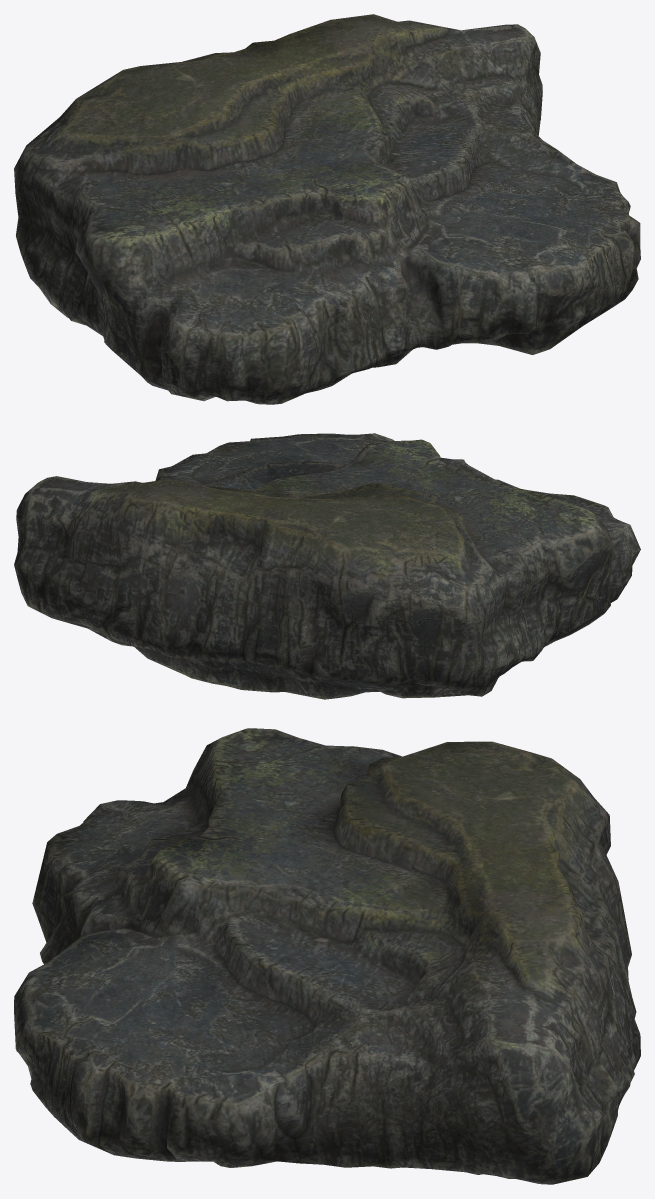
File: SM_Rock_Flat_01.FBX
3 views of the same model, one above another, from view 1: azimuth 30°, elevation 25°; view 2: azimuth 150°, elevation 25°; view 3: azimuth 270°, elevation 25° (orthographic). The views are drawn at different scales.
Parts seen in each view (by area): view 1: SM_Rock_Flat_01; view 2: SM_Rock_Flat_01; view 3: SM_Rock_Flat_01.
Part boxes in pixels (x1=…): SM_Rock_Flat_01: x1=14, y1=14, x2=640, y2=404; SM_Rock_Flat_01: x1=14, y1=433, x2=640, y2=699; SM_Rock_Flat_01: x1=14, y1=728, x2=640, y2=1184.
Bounding box in the file's own units: 1070 × 382 × 856.
